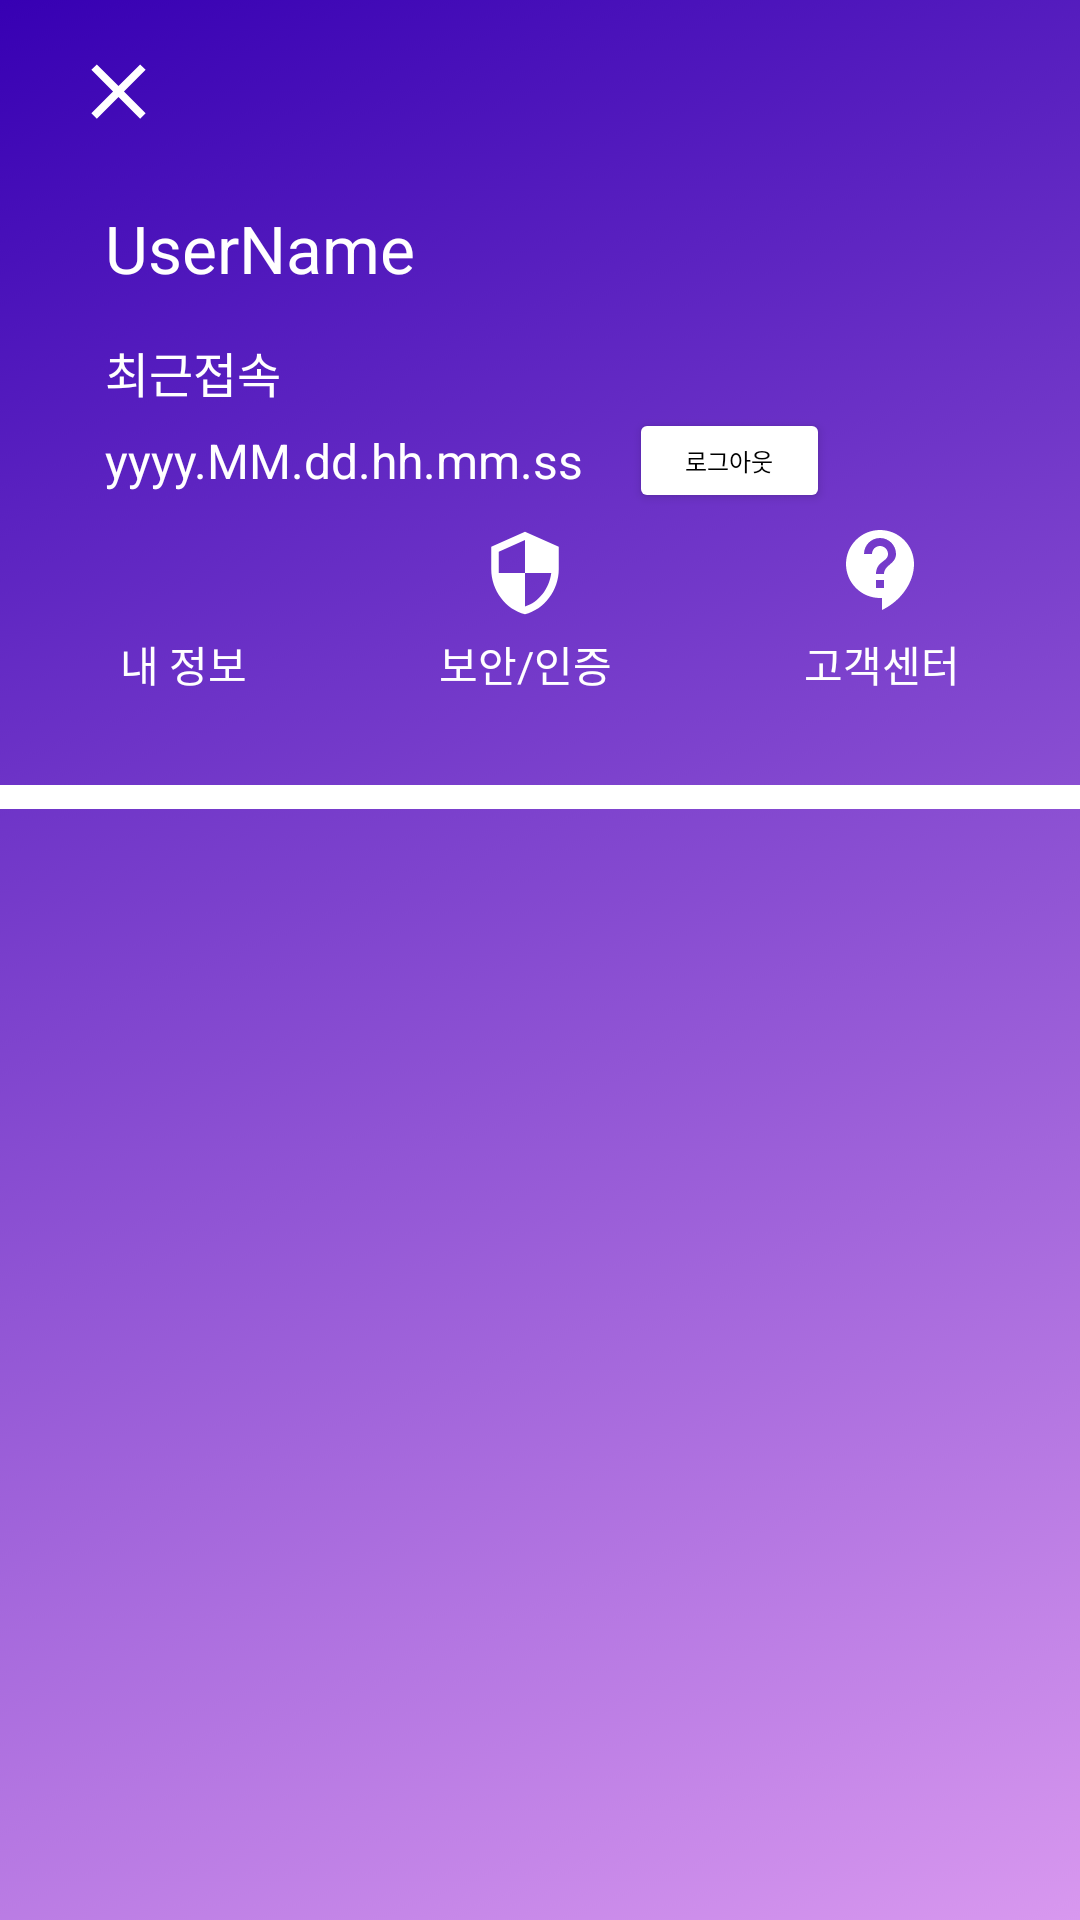

Icon bounding boxes for this 1080w x 1920h phone screenshot, format (x1, y1, x2, y2):
cancel: (91, 64, 146, 119)
